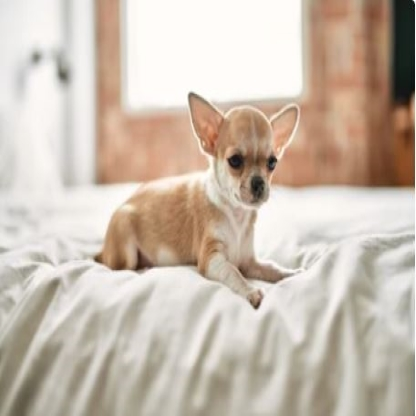chihuahua: (94, 88, 306, 312)
